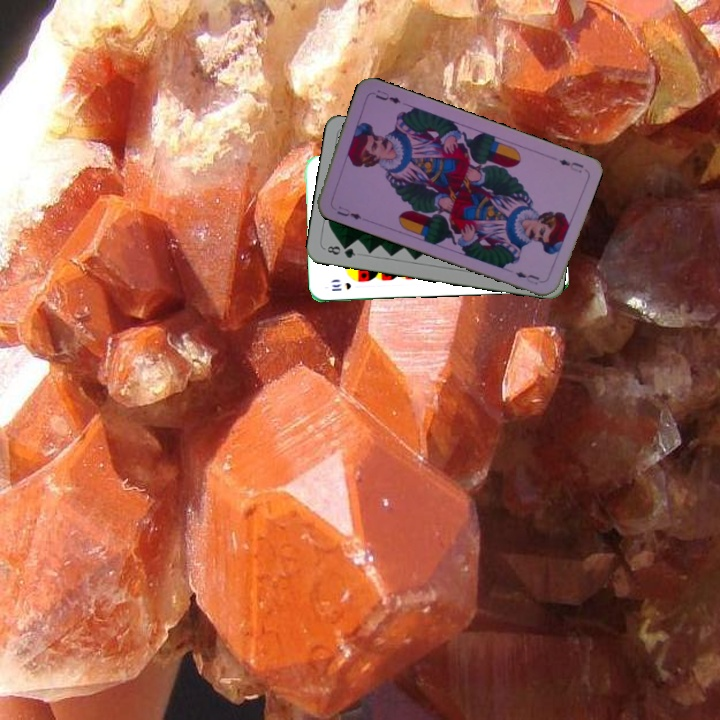EU: (333, 202, 364, 222), (555, 155, 586, 175)
G8: (323, 242, 358, 261)
S10: (327, 279, 353, 293)
